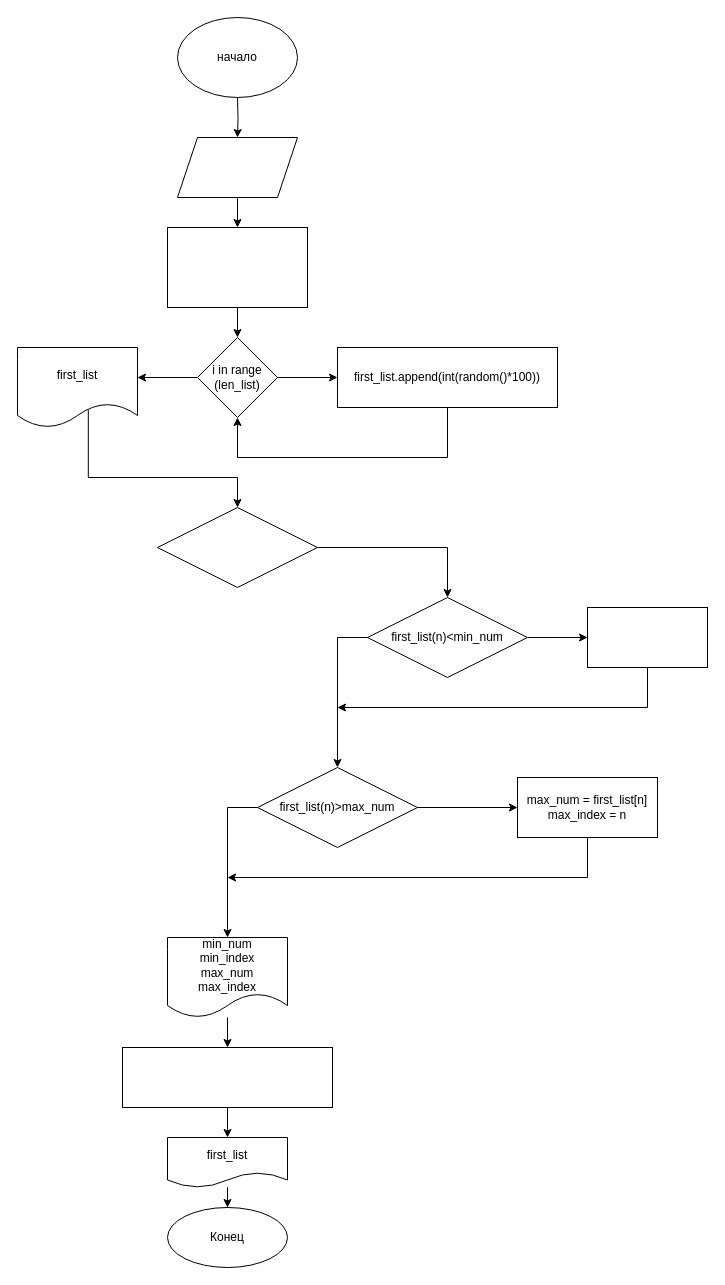
The diagram is 725 pixels wide and 1285 high, and some of its shapes have lost their labels. The box of each missing label's shape, as (x1, y1, x2, y2) in pixels:
first_list = [] min_num = 100 min_index = 0 max_num = 0 max_index = 0: (166, 226, 308, 308)
first_list[min_index] = max_num first_list[max_index] = min_num: (122, 1046, 332, 1108)
len_list: (176, 136, 298, 198)
min_num = first_list[n] min_index = n: (586, 606, 708, 668)
n in range(first_list): (156, 506, 318, 588)
